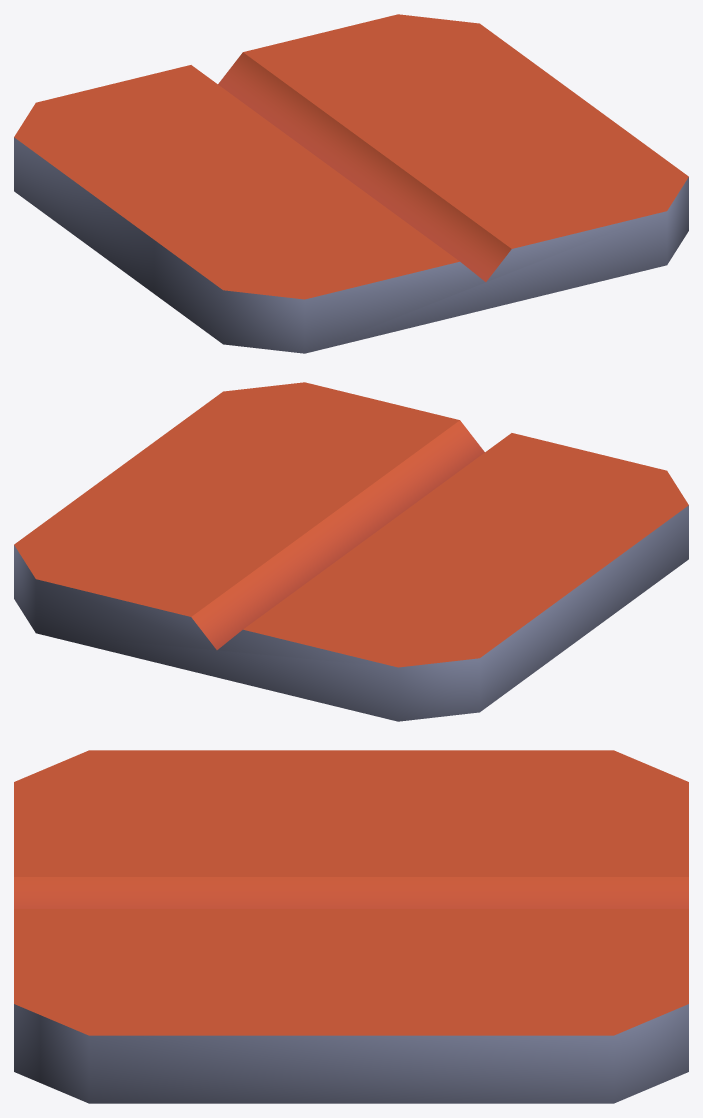
Rendered from debris-plate-a.glb.
3 views of the same model, one above another, from view 1: azimuth 30°, elevation 25°; view 2: azimuth 150°, elevation 25°; view 3: azimuth 270°, elevation 25° (orthographic). The views are drawn at different scales.
Parts seen in each view (by area): view 1: debris-plate-a; view 2: debris-plate-a; view 3: debris-plate-a.
Part boxes in pixels (x1,y1,x2,y2): debris-plate-a: (14,14,688,353); debris-plate-a: (14,382,688,721); debris-plate-a: (14,750,688,1103).
Bounding box in the file's own units: 0.9 × 0.1 × 0.9.
